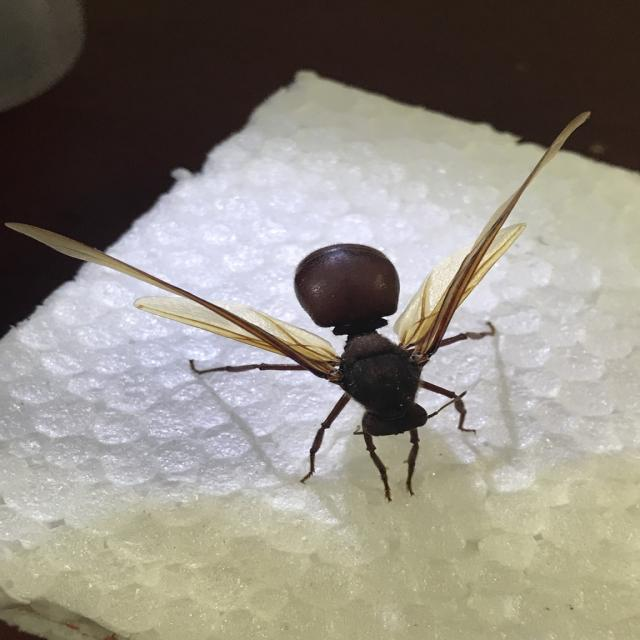Dead-Female-Alate: (3, 110, 593, 504)
